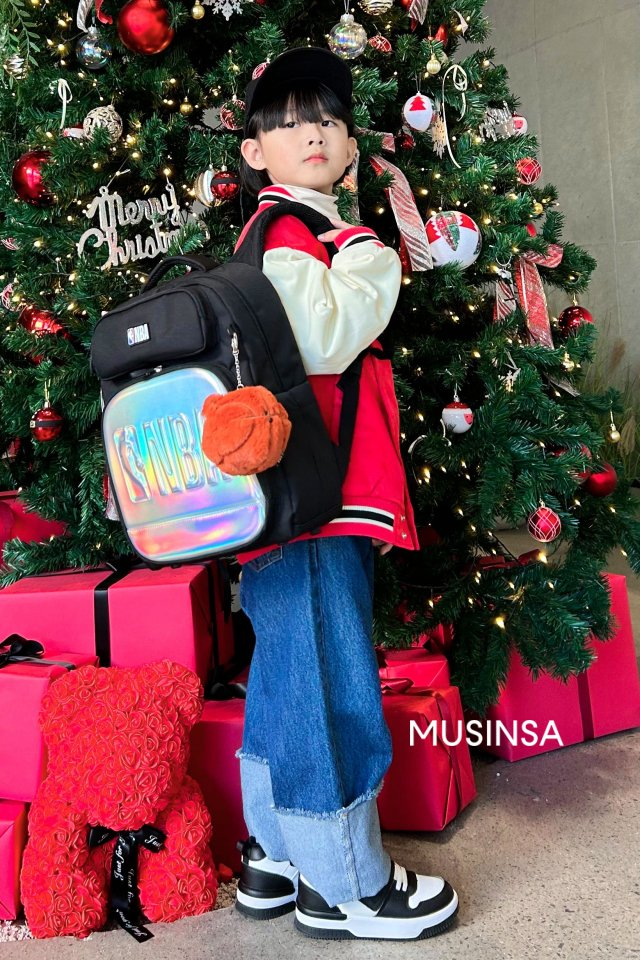Backpack: (89, 251, 350, 548)
Cap: (241, 45, 355, 101)
Jeans: (238, 533, 394, 899)
Outer: (238, 183, 424, 562)
Shoes: (228, 829, 472, 943)
